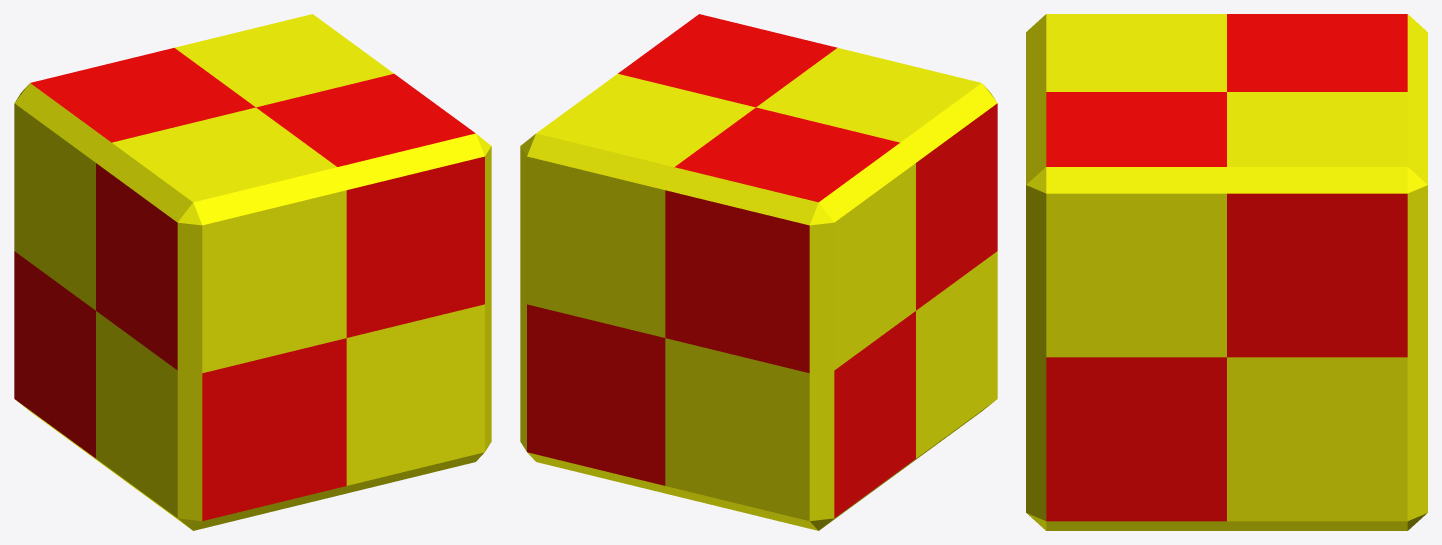
File: ItemBlock.fbx
3 renders of one model, left to right at view 1: azimuth 30°, elevation 25°; view 2: azimuth 150°, elevation 25°; view 3: azimuth 270°, elevation 25°, orthographic. The views are drawn at different scales.
Visible parts, largest first — view 1: pCube1; view 2: pCube1; view 3: pCube1.
Boxes of the visible parts, x1,y1,x2,y2 form: pCube1: (14, 14, 491, 530); pCube1: (520, 14, 997, 530); pCube1: (1026, 14, 1427, 530).
Bounding box in the file's own units: 2 × 2 × 2.
